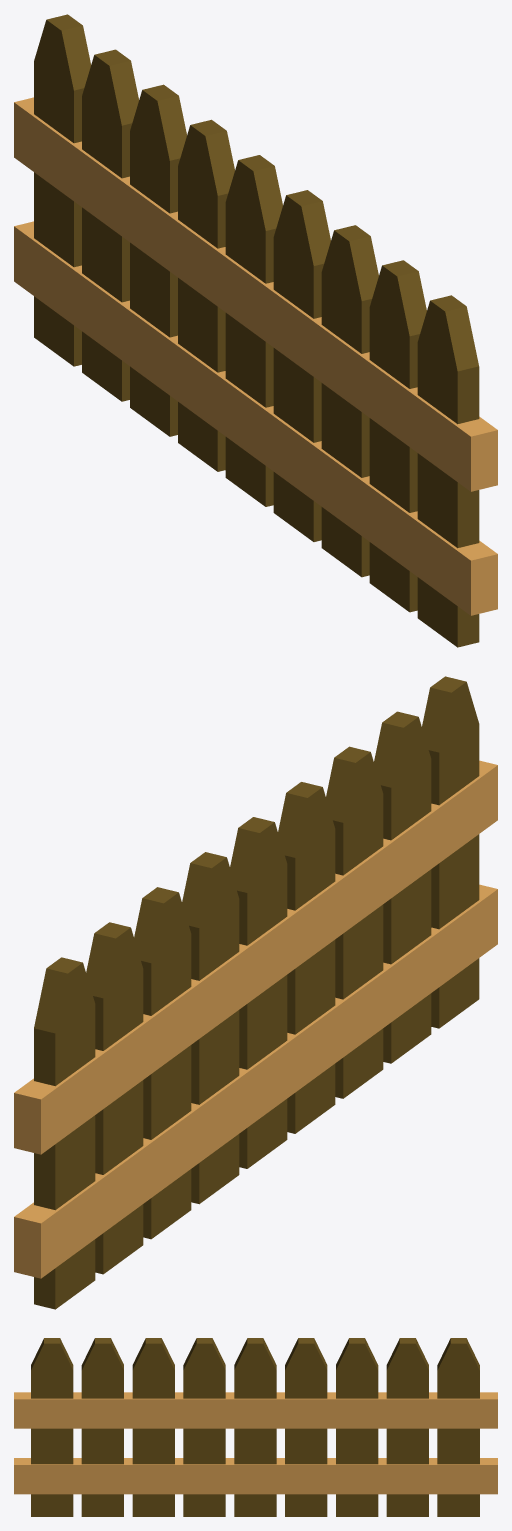
Rendered from Hek.fbx.
3 views of the same model, one above another, from view 1: azimuth 30°, elevation 25°; view 2: azimuth 150°, elevation 25°; view 3: azimuth 270°, elevation 25° (orthographic). The views are drawn at different scales.
Parts seen in each view (by area): view 1: Cube.001; view 2: Cube.001; view 3: Cube.001.
Boxes of the visible parts, bbox=[...] form: Cube.001: bbox=[14, 14, 497, 647]; Cube.001: bbox=[14, 676, 497, 1309]; Cube.001: bbox=[14, 1338, 497, 1516].
Size of the model in its own units: 20.54 by 237 by 600.
